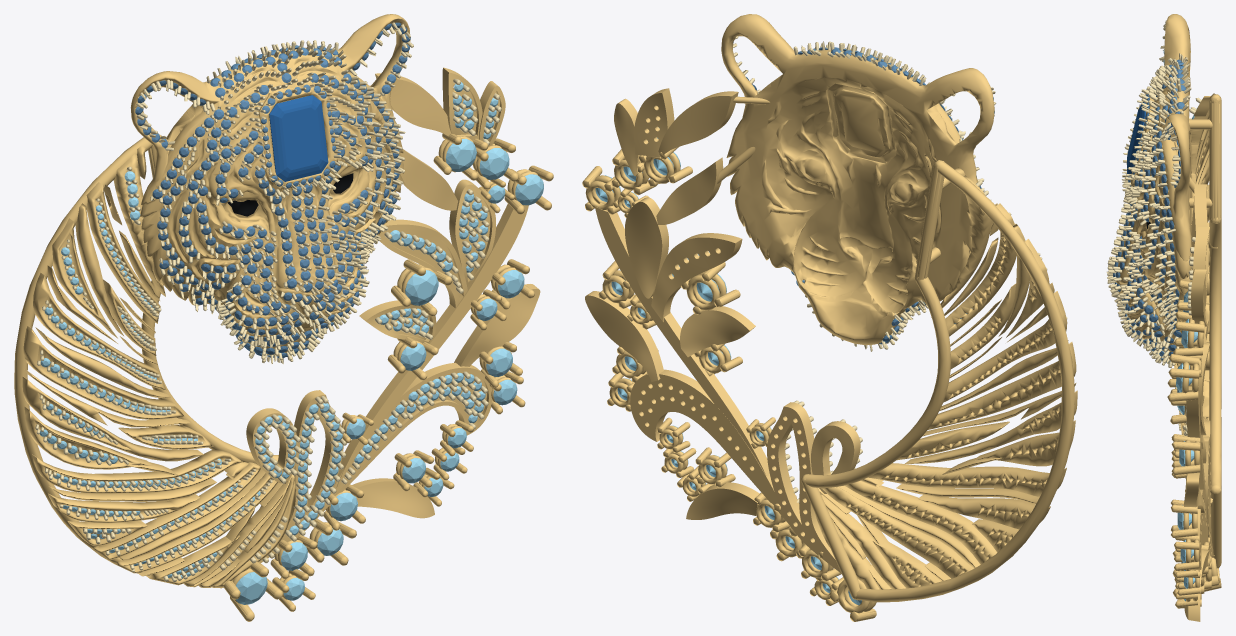
File: panther-bloom.glb
3 views of the same model, side by side, from view 1: azimuth 30°, elevation 25°; view 2: azimuth 150°, elevation 25°; view 3: azimuth 270°, elevation 25° (orthographic). The views are drawn at different scales.
Parts seen in each view (by area): view 1: feather, face, botanical, gems; view 2: feather, face, botanical, gems; view 3: face, botanical, feather, gems.
Boxes of the visible parts, x1=… form: feather: x1=14, y1=85, x2=370, y2=587; face: x1=130, y1=14, x2=413, y2=364; botanical: x1=220, y1=67, x2=553, y2=621; gems: x1=39, y1=22, x2=543, y2=604; feather: x1=717, y1=96, x2=1077, y2=602; face: x1=721, y1=14, x2=996, y2=351; botanical: x1=582, y1=88, x2=876, y2=621; gems: x1=595, y1=42, x2=994, y2=605; face: x1=1106, y1=14, x2=1192, y2=367; botanical: x1=1167, y1=184, x2=1221, y2=621; feather: x1=1174, y1=93, x2=1221, y2=568; gems: x1=1113, y1=49, x2=1197, y2=601.
Size of the model in its own units: 4.64 by 5 by 0.9707.
